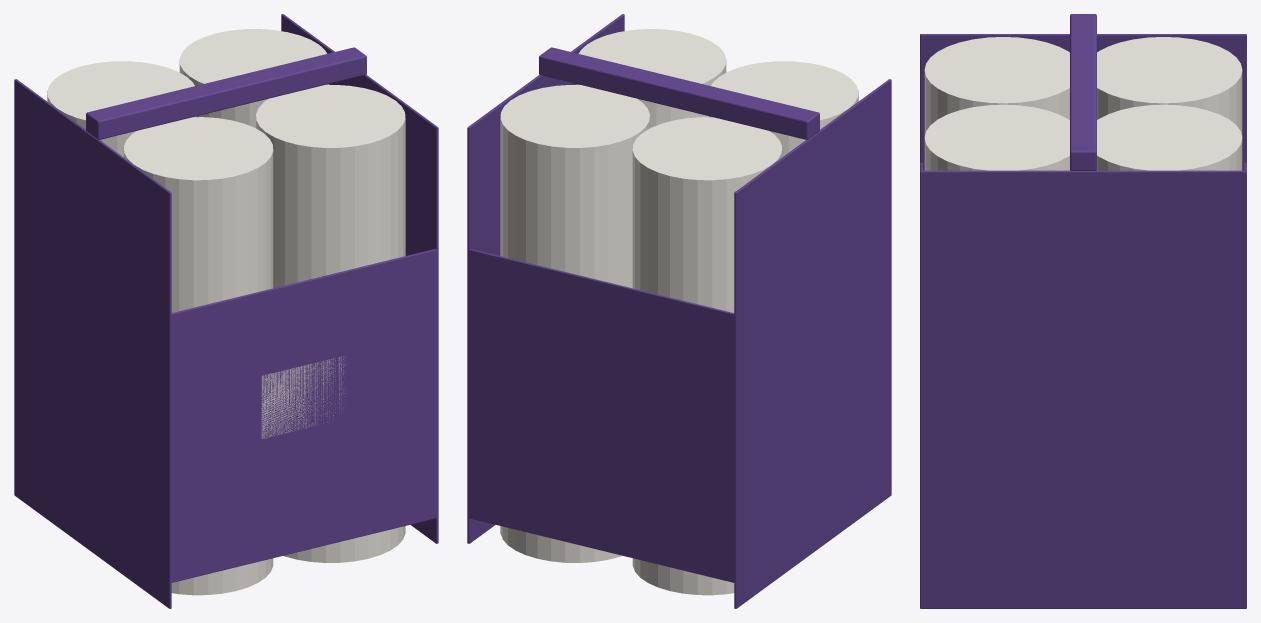
File: toilet-paper-pack-v1.glb
3 renders of one model, left to right at view 1: azimuth 30°, elevation 25°; view 2: azimuth 150°, elevation 25°; view 3: azimuth 270°, elevation 25°, orthographic. The views are drawn at different scales.
Parts seen in each view (by area): view 1: front-label, left-wrap, rolls, top-seal, right-wrap, quantity-mark; view 2: back-label, left-wrap, rolls, top-seal, right-wrap; view 3: right-wrap, rolls, top-seal, left-wrap, back-label, front-label.
Boxes of the visible parts, bbox=[...] form: front-label: bbox=[168, 249, 438, 582]; left-wrap: bbox=[14, 79, 171, 608]; rolls: bbox=[47, 29, 405, 595]; top-seal: bbox=[86, 47, 366, 139]; right-wrap: bbox=[281, 14, 438, 543]; quantity-mark: bbox=[261, 356, 345, 438]; back-label: bbox=[467, 249, 737, 582]; left-wrap: bbox=[734, 79, 891, 608]; rolls: bbox=[500, 29, 858, 595]; top-seal: bbox=[539, 47, 819, 139]; right-wrap: bbox=[467, 14, 624, 543]; right-wrap: bbox=[920, 170, 1246, 608]; rolls: bbox=[924, 37, 1242, 170]; top-seal: bbox=[1070, 14, 1096, 170]; left-wrap: bbox=[920, 34, 1246, 170]; back-label: bbox=[1244, 162, 1246, 581]; front-label: bbox=[920, 162, 922, 581].
Size of the model in its own units: 0.22 by 0.34 by 0.22.
